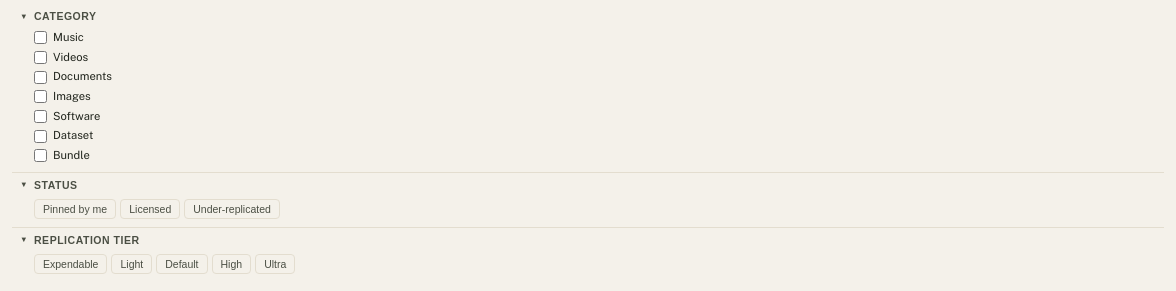
Test: QuickFilters › sections are collapsible with aria-expanded
The width and height of the screenshot is (1176, 291).
Step 1. Click the button "▼ Category" → (65, 16), box [12,4,1164,28]
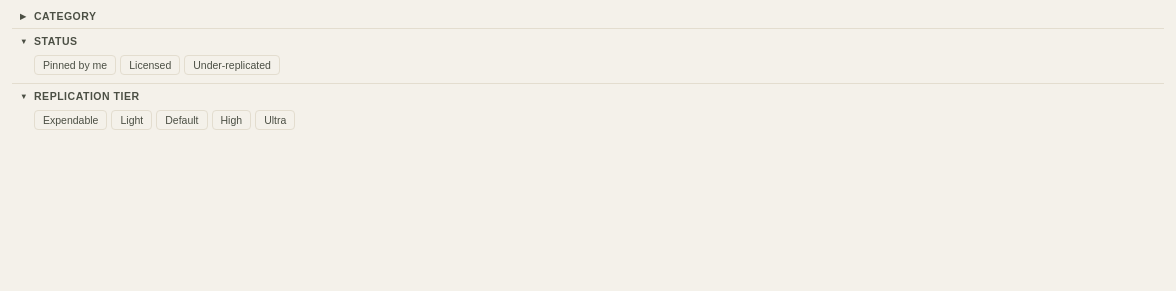
Expected: the button "▶ Category" is collapsed, [12,4,1164,28]
